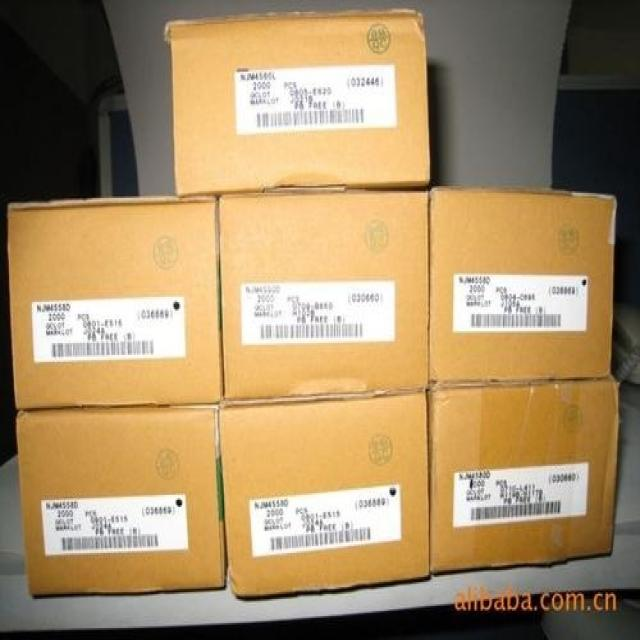box: (163, 10, 433, 196), (8, 195, 224, 411), (218, 189, 430, 399), (218, 391, 429, 596), (14, 403, 224, 597), (429, 188, 618, 389), (429, 379, 620, 573)
